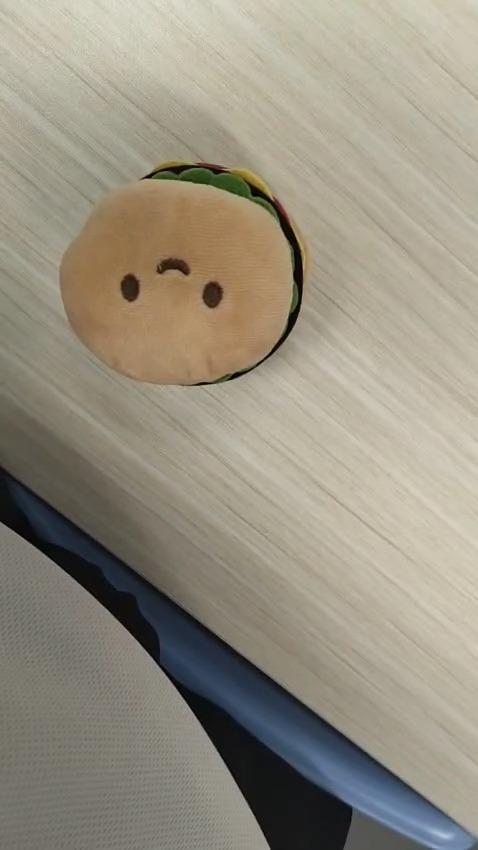hamburger: (59, 157, 312, 385)
